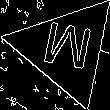M_S: (37, 19, 95, 78)
